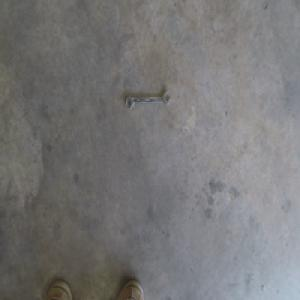Wrench: (125, 91, 170, 109)
